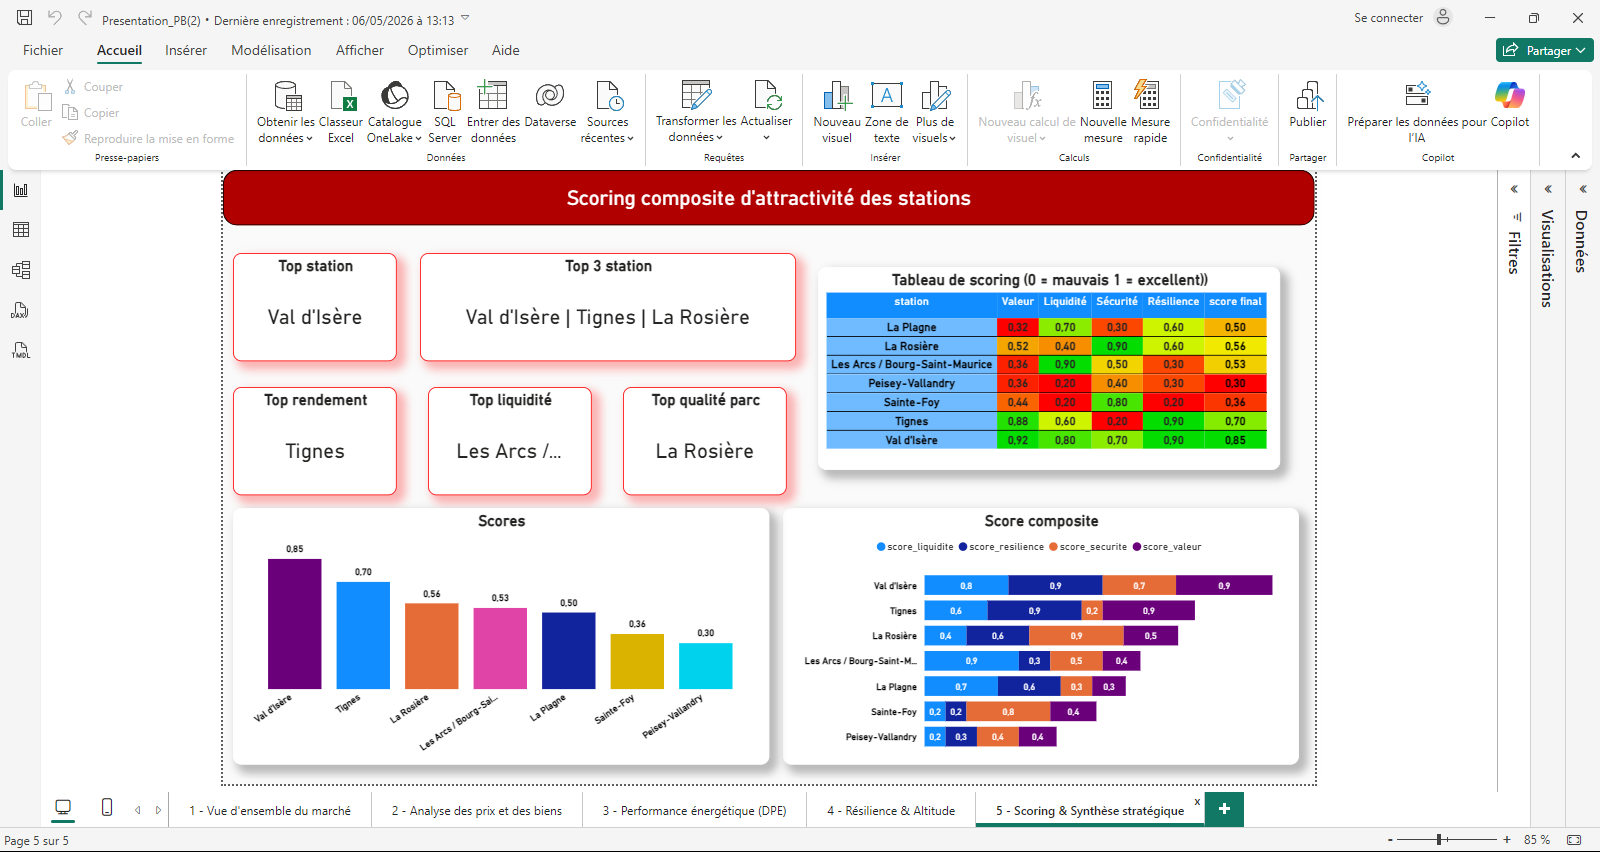

This screenshot's page, from the dashboard's own definition file:
{"tool":"powerbi","page":{"name":"5 - Scoring & Synthèse stratégique","canvas":[1280,720],"ordinal":4},"visuals":[{"type":"shape","box":[0,0,1280,65],"z":0},{"type":"cardVisual","title":"Top rendement","fields":{"Data":["mesure.Meilleur rendement"]},"box":[11.7,254.5,192.3,126.6],"z":1000},{"type":"tableEx","title":"Tableau de scoring (0 = mauvais 1 = excellent))","fields":{"Values":["Stations.station","scoring.score_valeur","scoring.score_liquidite","scoring.score_securite","scoring.score_resilience","scoring.score_final"]},"box":[697.7,113.7,541.8,238],"z":2000},{"type":"barChart","title":"Score composite","fields":{"Series":["scoring_radar.dimension"],"Category":["scoring_radar.station"],"Y":["Sum(scoring_radar.score)"]},"box":[656.7,396.4,605.1,301.4],"z":3000},{"type":"cardVisual","title":"Top qualité parc","fields":{"Data":["mesure.Meilleur parc immo"]},"box":[469.1,254.5,192.3,126.6],"z":4000},{"type":"cardVisual","title":"Top liquidité","fields":{"Data":["mesure.Top liquide"]},"box":[240.4,254.5,192.3,126.6],"z":5000},{"type":"clusteredColumnChart","title":"Scores","fields":{"Category":["scoring.station"],"Y":["mesure.Score final"]},"box":[11.7,396.4,628.5,301.4],"z":6000},{"type":"cardVisual","title":"Top station","fields":{"Data":["mesure.Top station"]},"box":[11.7,97.3,192.3,126.6],"z":7000},{"type":"cardVisual","title":"Top 3 station","fields":{"Data":["mesure.Top 3 stations"]},"box":[230.4,97.3,440.9,126.6],"z":8000}]}

Visuals, with their boxes on the page's 1280x720 design canvas (x1, y1, x2, y2). These are canvas units, not pixel positions in the 1600x852 screenshot, which may show the page scaled, cropped or inside an application window:
shape: box=[0, 0, 1280, 65]
"Top rendement" cardVisual: box=[12, 254, 204, 381]
"Tableau de scoring (0 = mauvais 1 = excellent))" tableEx: box=[698, 114, 1240, 352]
"Score composite" barChart: box=[657, 396, 1262, 698]
"Top qualité parc" cardVisual: box=[469, 254, 661, 381]
"Top liquidité" cardVisual: box=[240, 254, 433, 381]
"Scores" clusteredColumnChart: box=[12, 396, 640, 698]
"Top station" cardVisual: box=[12, 97, 204, 224]
"Top 3 station" cardVisual: box=[230, 97, 671, 224]
